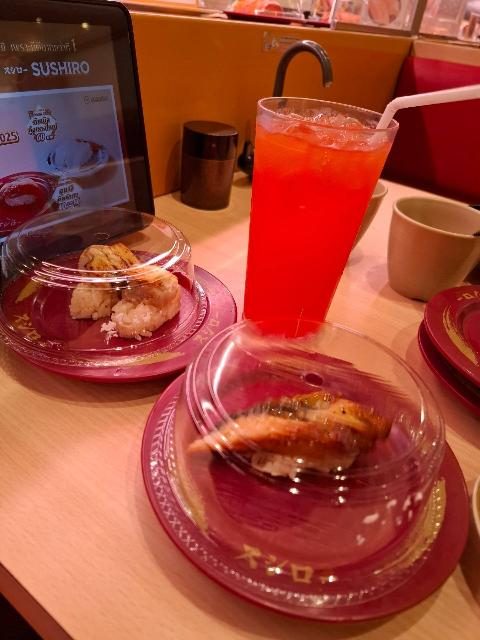janred: (142, 377, 450, 609), (0, 256, 239, 373), (406, 320, 480, 427), (429, 287, 480, 367)
